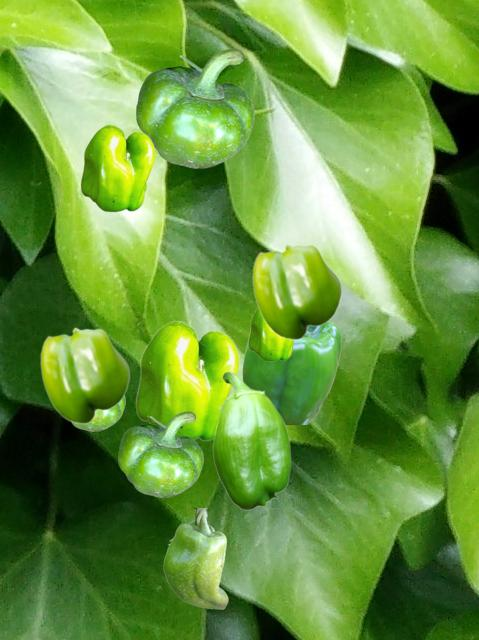bell_pepper: (136, 48, 253, 167), (135, 320, 238, 441), (212, 371, 290, 509), (242, 321, 340, 423), (252, 243, 341, 339), (40, 327, 129, 423), (118, 411, 202, 496), (80, 124, 154, 211), (163, 508, 227, 608), (248, 309, 294, 360), (71, 398, 124, 430)
